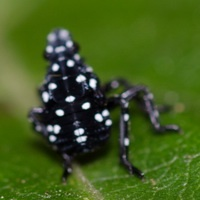insect: (29, 29, 180, 182)
